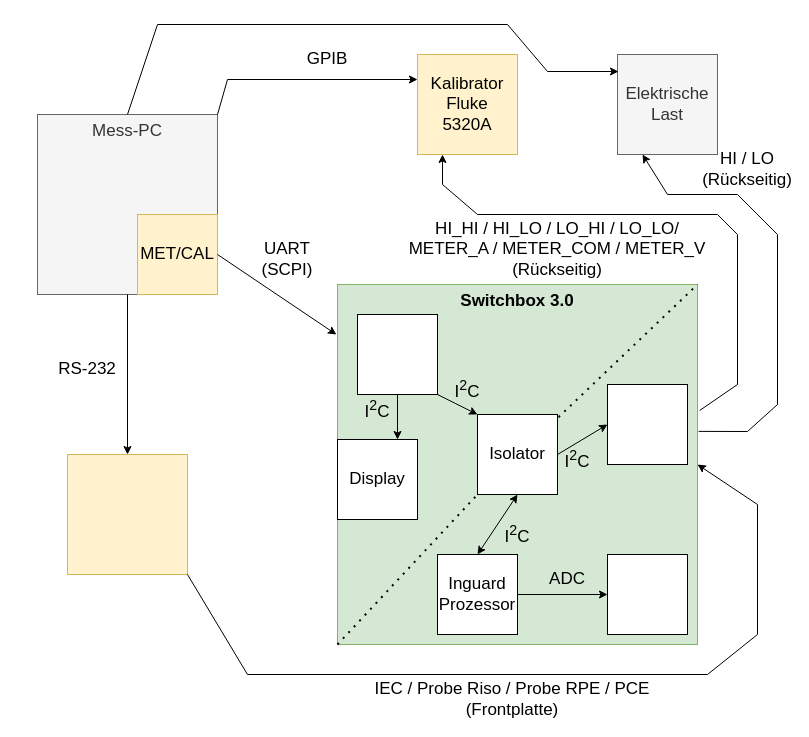
Image size: 809x737. Some labels were removed from this diagram. Here are the shapes that lost their labels. From the top down, the centre of each, then its label:
point 397,354: Outguard Prozessor
point 647,424: Relais Matrix
point 127,514: Gerätetster Fluke 6x00 (-2)
point 647,594: PELV RPE Messung
